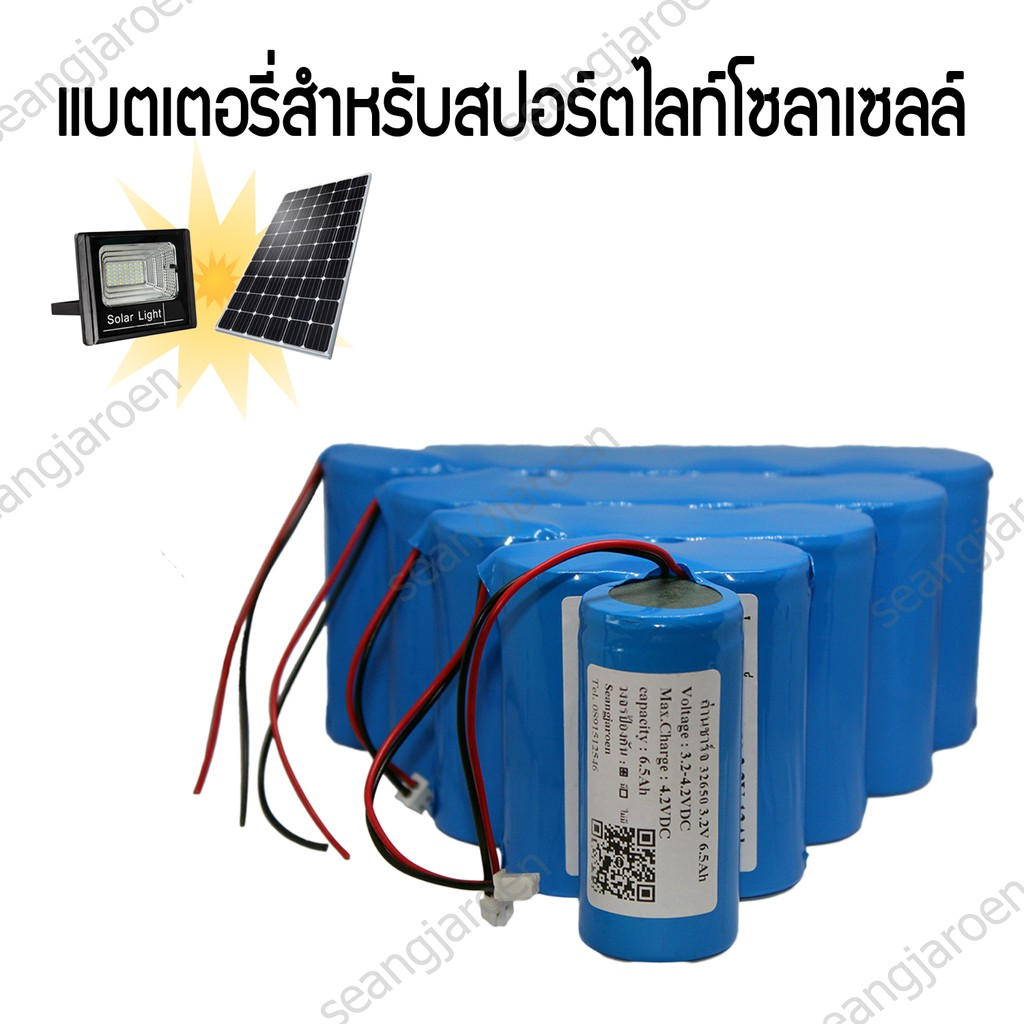Battery: (569, 555, 744, 968)
